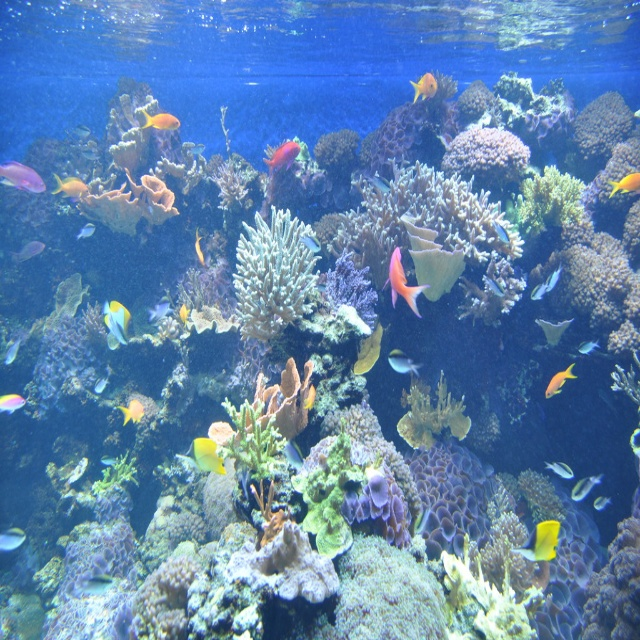Fish: (0, 73, 640, 561)
